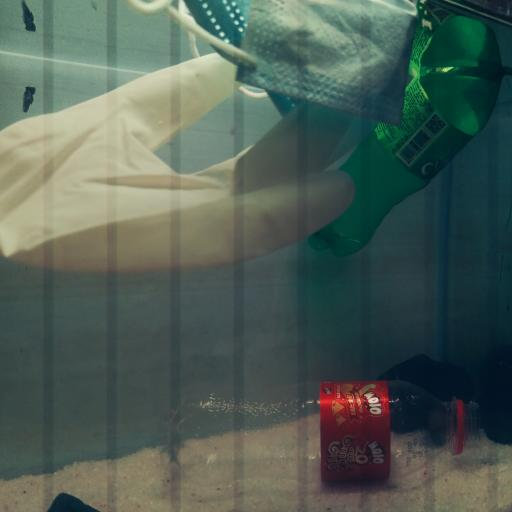glove: (7, 47, 354, 280)
mask: (131, 4, 417, 129)
plastic_bottle: (315, 66, 500, 264), (168, 382, 482, 492)
